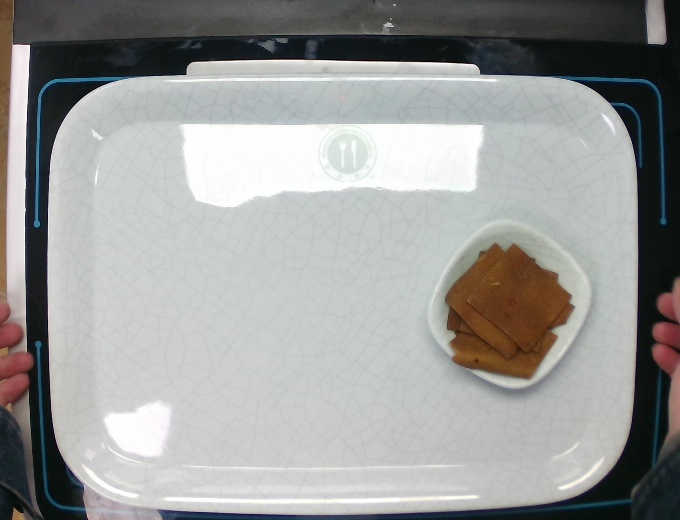JYsf-Si_Fang_Die: (424, 226, 591, 390)
